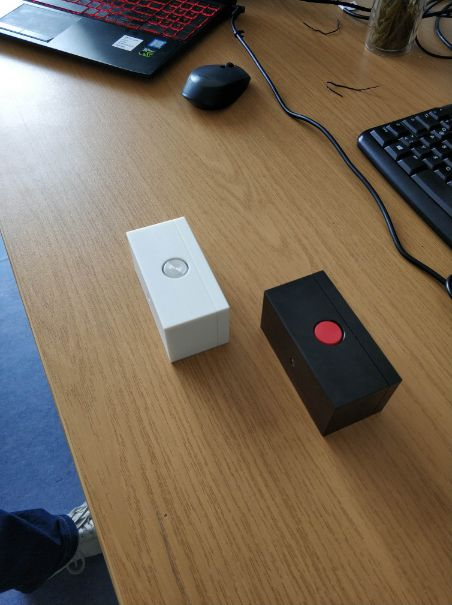black+black+red: (255, 269, 407, 442)
white+white+silver: (121, 213, 234, 368)
